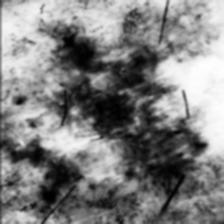Potentially Malignant Skin Tumors: (30, 176, 72, 214), (52, 25, 90, 55)
